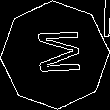M_W: (28, 30, 82, 80)
